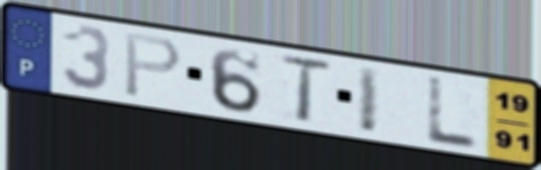3: (58, 23, 111, 94)
6: (207, 46, 264, 115)
I: (356, 63, 383, 137)
L: (423, 74, 482, 152)
P: (122, 30, 184, 99)
T: (275, 53, 335, 126)
